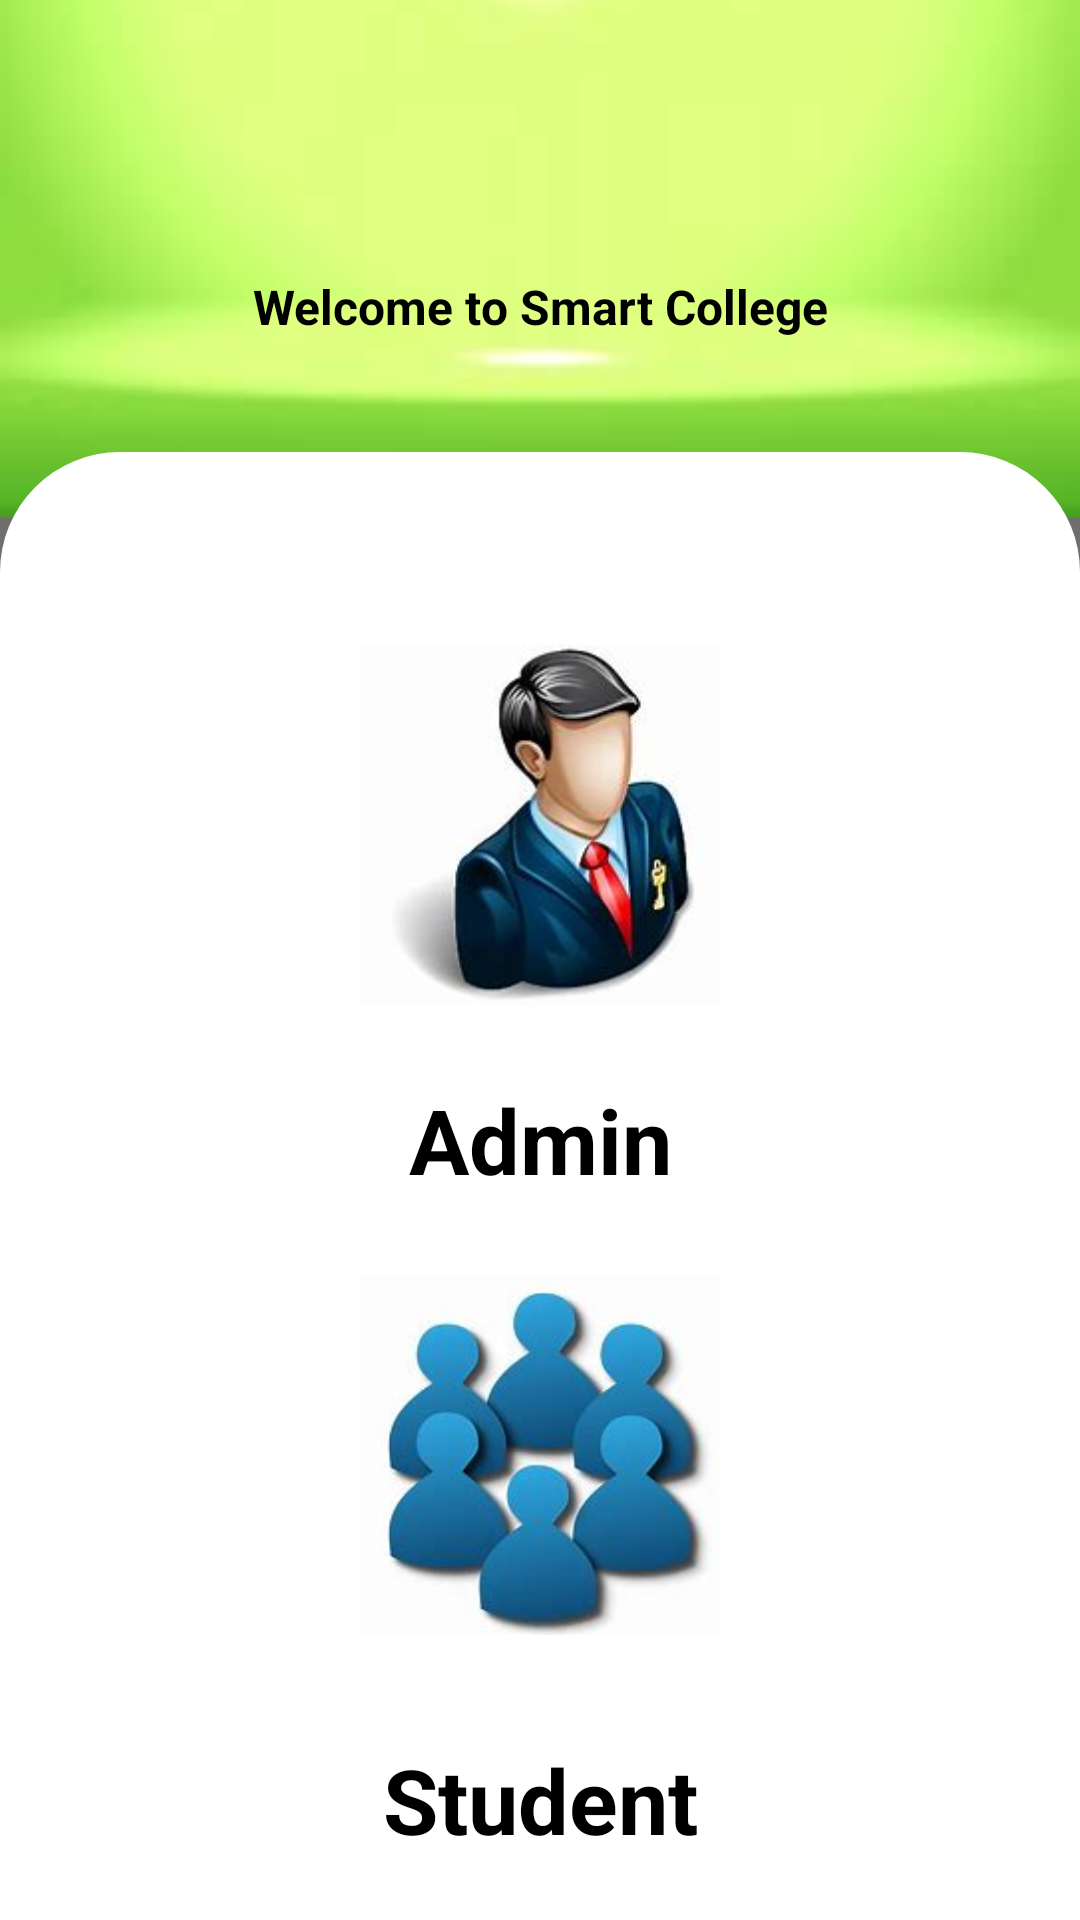

Named icons in this screenshot (1080px x 1920px) and their centers, [x,y]:
user: [547,1462]
